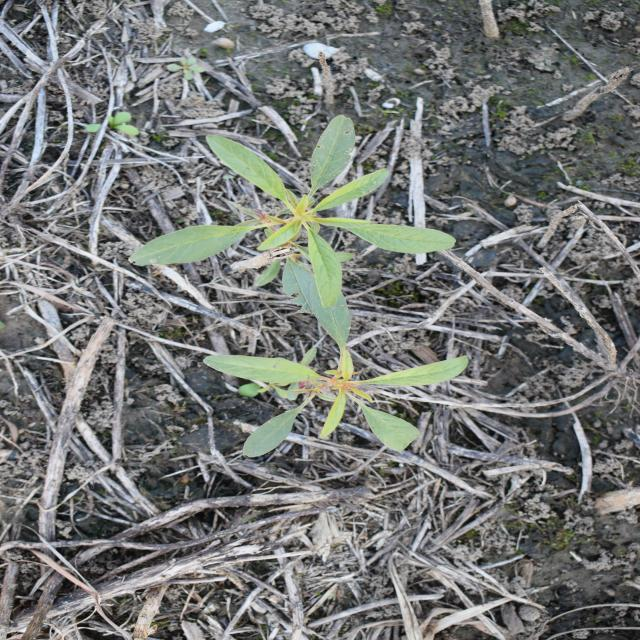Waterhemp: (125, 113, 459, 315), (201, 272, 471, 459)
